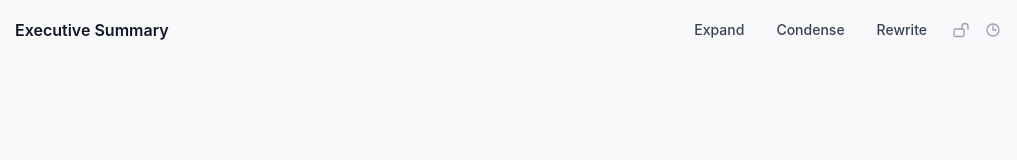
Test: SectionActionToolbar › clicking Expand opens inline input with correct placeholder
Step 1. Click the button "Expand" → point(719, 30), box [682,8,756,52]
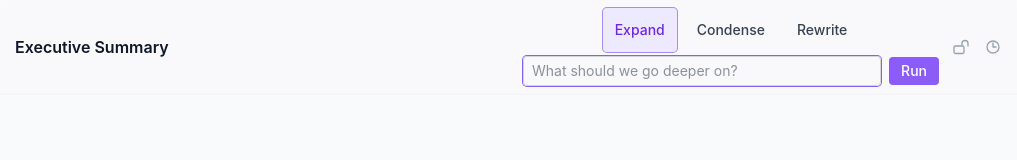
Result: the field with placeholder "What should we go deeper on?" is shown at [523,56,881,86]
